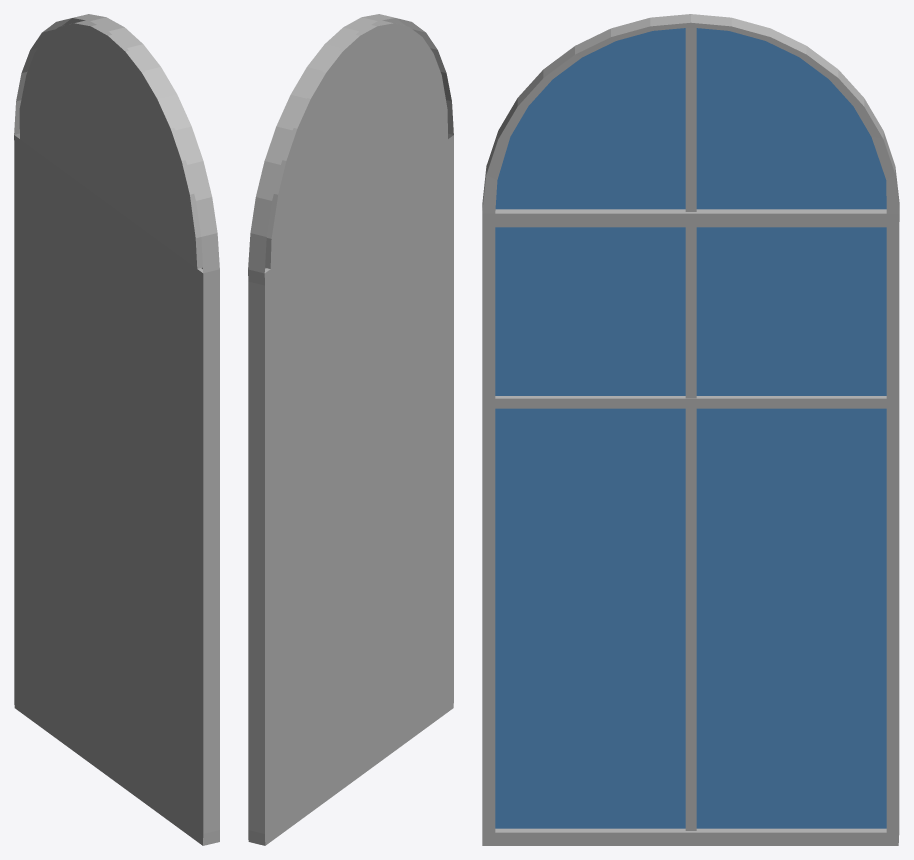
Rendered from window_church.dae.
The picture shows the model from 3 angles, left to right: view 1: azimuth 30°, elevation 25°; view 2: azimuth 150°, elevation 25°; view 3: azimuth 270°, elevation 25°; orthographic projection. The views are drawn at different scales.
Parts seen in each view (by area): view 1: Cube; view 2: Cube; view 3: Cube.
Part boxes in pixels (x1,y1,x2,y2): Cube: [14, 14, 219, 845]; Cube: [248, 14, 453, 845]; Cube: [482, 14, 899, 845].
Bounding box in the file's own units: 0.1129 × 2.13 × 4.64.
